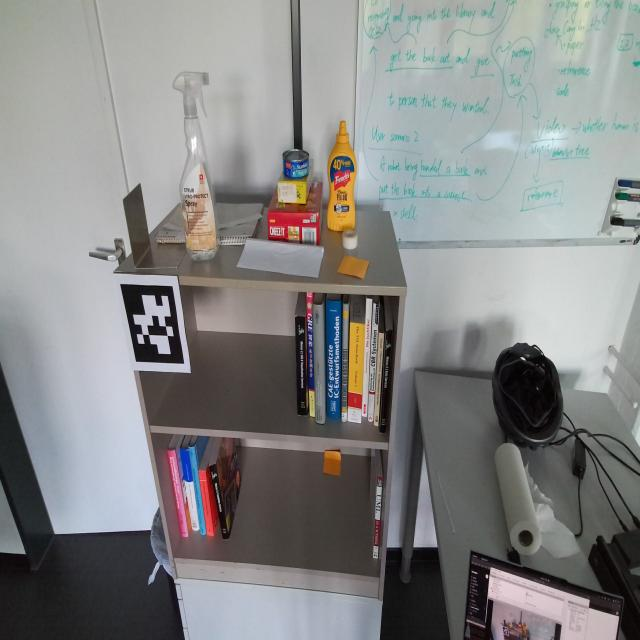Book Spine: (167, 449, 188, 537), (347, 323, 365, 424), (326, 300, 341, 419), (180, 448, 200, 531), (188, 446, 206, 535), (367, 302, 380, 422), (209, 463, 229, 539), (313, 304, 325, 424), (380, 330, 393, 433), (362, 298, 373, 417), (295, 316, 307, 416), (306, 292, 315, 418), (198, 471, 214, 536), (341, 303, 349, 422), (374, 333, 384, 426), (373, 475, 383, 559)
